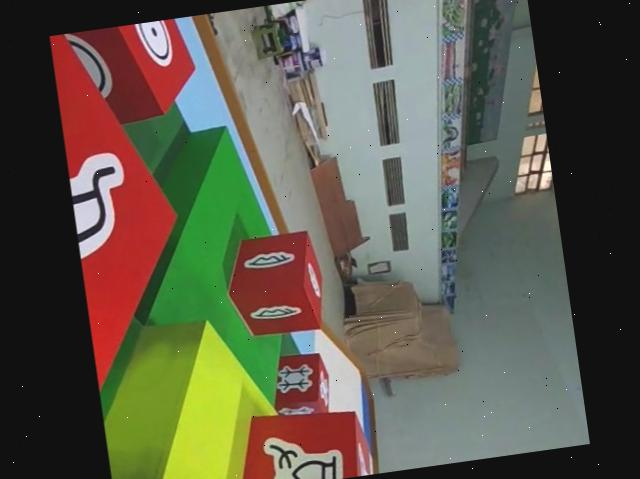R2 Real: (49, 21, 206, 403), (49, 16, 201, 126), (211, 400, 375, 479), (223, 230, 331, 341), (263, 352, 335, 419)
